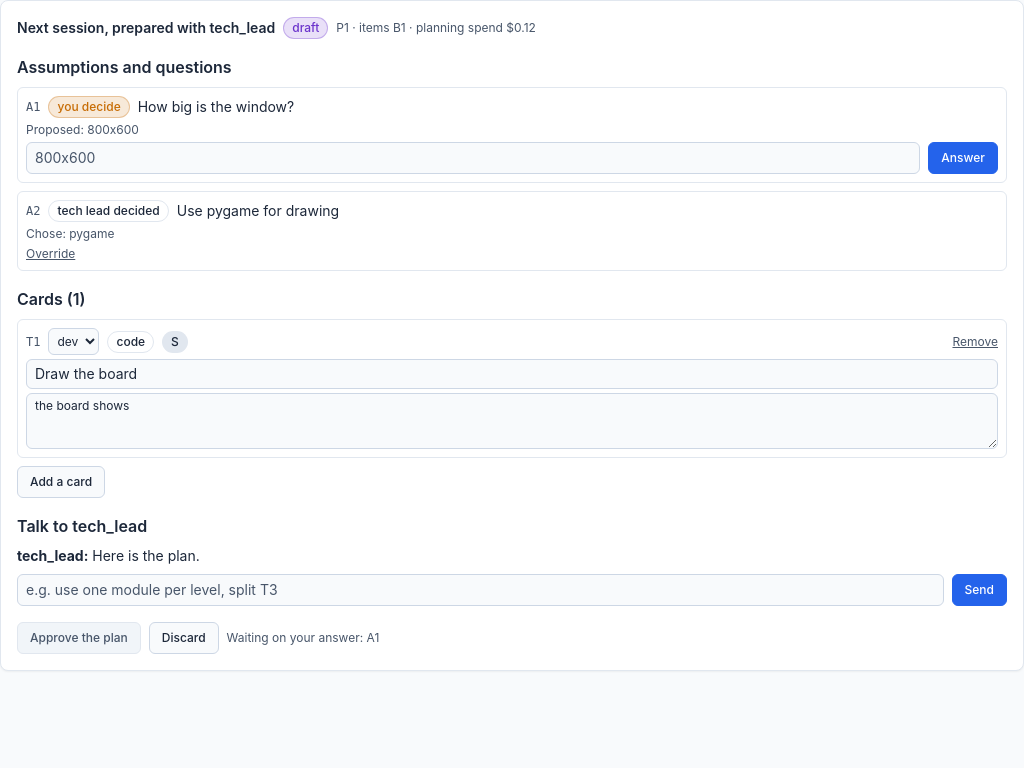
PreflightPanel › blocks approval until the owner's question is answered, then approves
Expected: the button "Approve the plan" is disabled, x1=17 y1=622 x2=141 y2=654
Expected: the text "Waiting on your answer: A1" is shown, x1=227 y1=630 x2=379 y2=646
Type "1024x768" into the field named "Answer A1" at (473, 158), box x1=26 y1=142 x2=920 y2=174
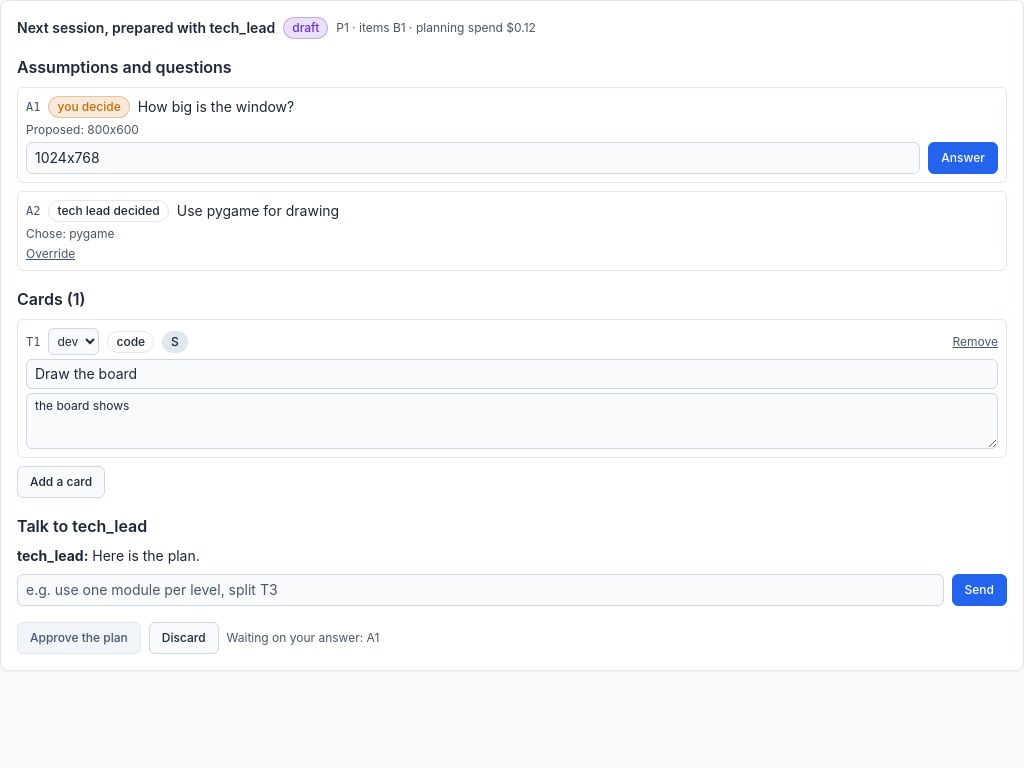
Click the button "Answer" at (963, 158), box x1=928 y1=142 x2=998 y2=174
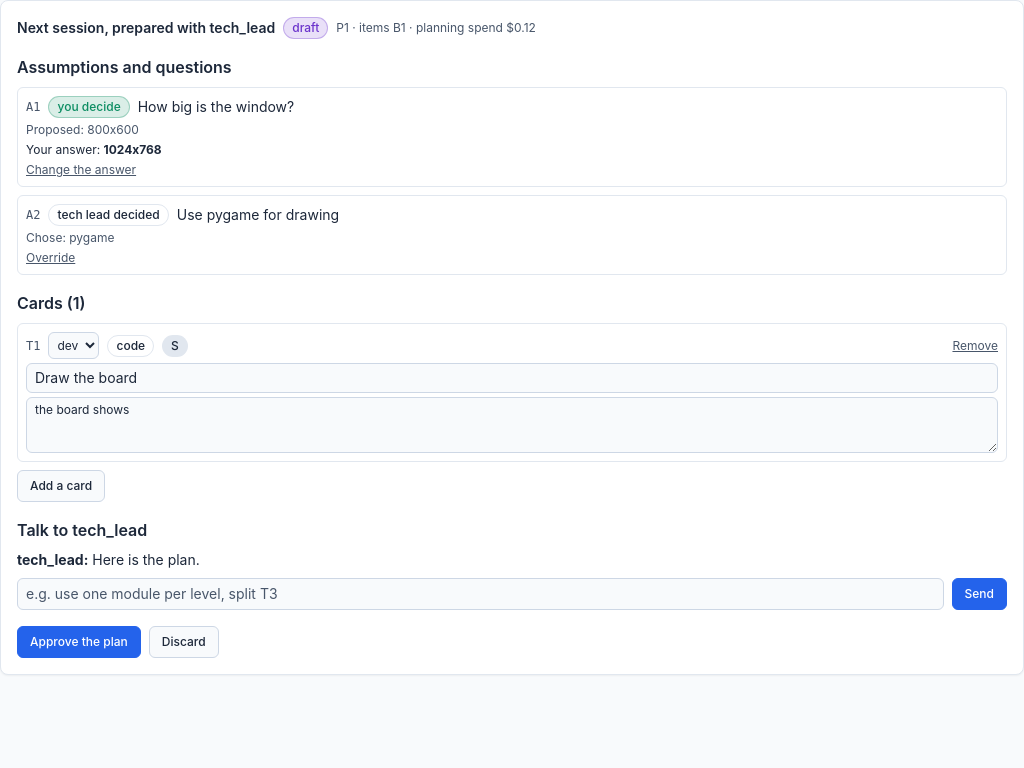
Expected: the button "Approve the plan" is enabled
Click the button "Approve the plan" at (79, 642), box x1=17 y1=626 x2=141 y2=658
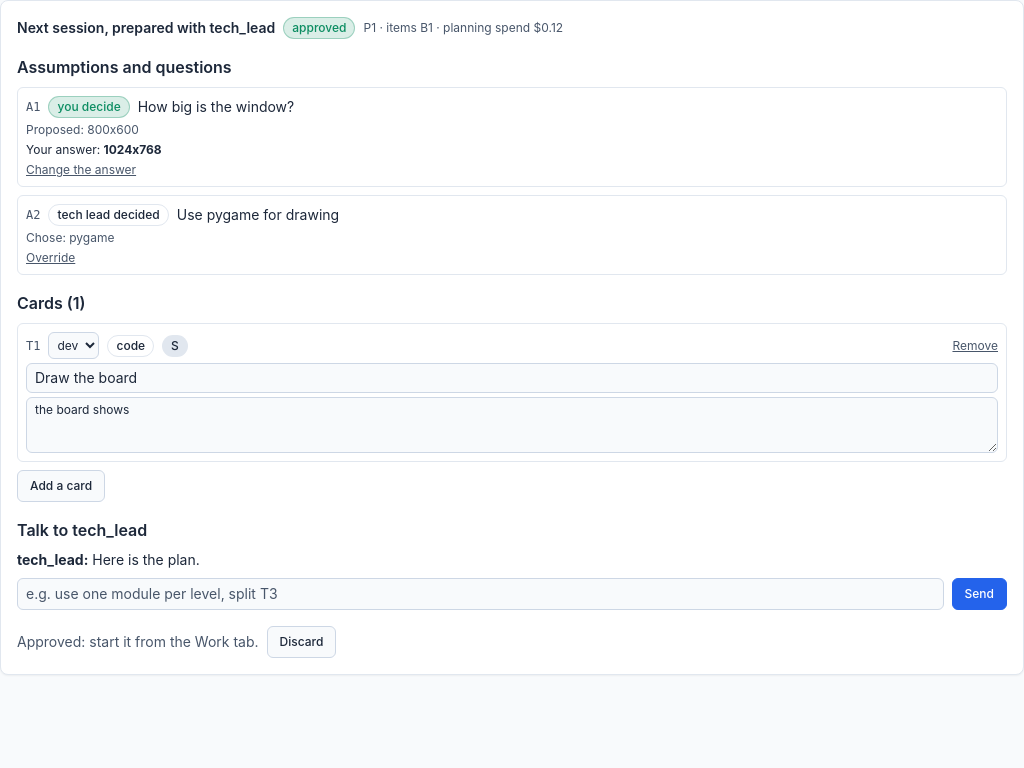
Expected: the text "Approved: start it from the Work tab." is shown, x1=17 y1=632 x2=259 y2=652
